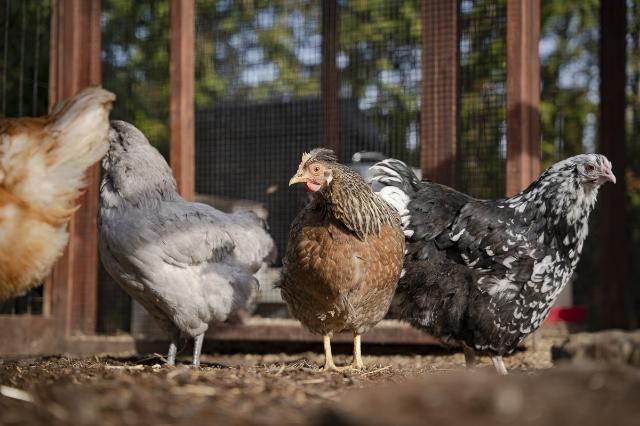Chicken: (370, 152, 616, 376), (102, 122, 277, 367), (280, 150, 405, 372), (2, 87, 115, 299)
